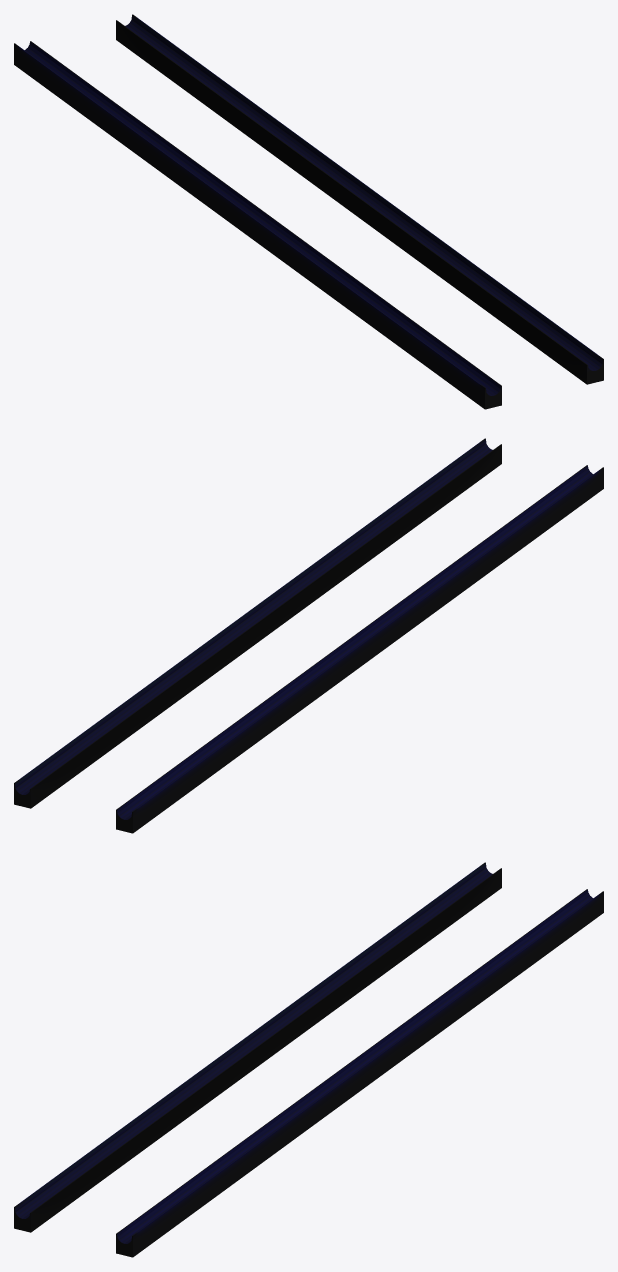
File: Gutters.dae
The picture shows the model from 3 angles, top to bottom: view 1: azimuth 30°, elevation 25°; view 2: azimuth 150°, elevation 25°; view 3: azimuth 330°, elevation 25°; orthographic projection.
Parts seen in each view (by area): view 1: GutterWallsAlone_005; view 2: GutterWallsAlone_005; view 3: GutterWallsAlone_005.
Part boxes in pixels (x1,y1,x2,y2): GutterWallsAlone_005: [14, 14, 603, 409]; GutterWallsAlone_005: [14, 438, 603, 833]; GutterWallsAlone_005: [14, 862, 603, 1257].
Size of the model in its own units: 3.5 by 24 by 0.6012.
Materials: 1 (1 with a texture image).
